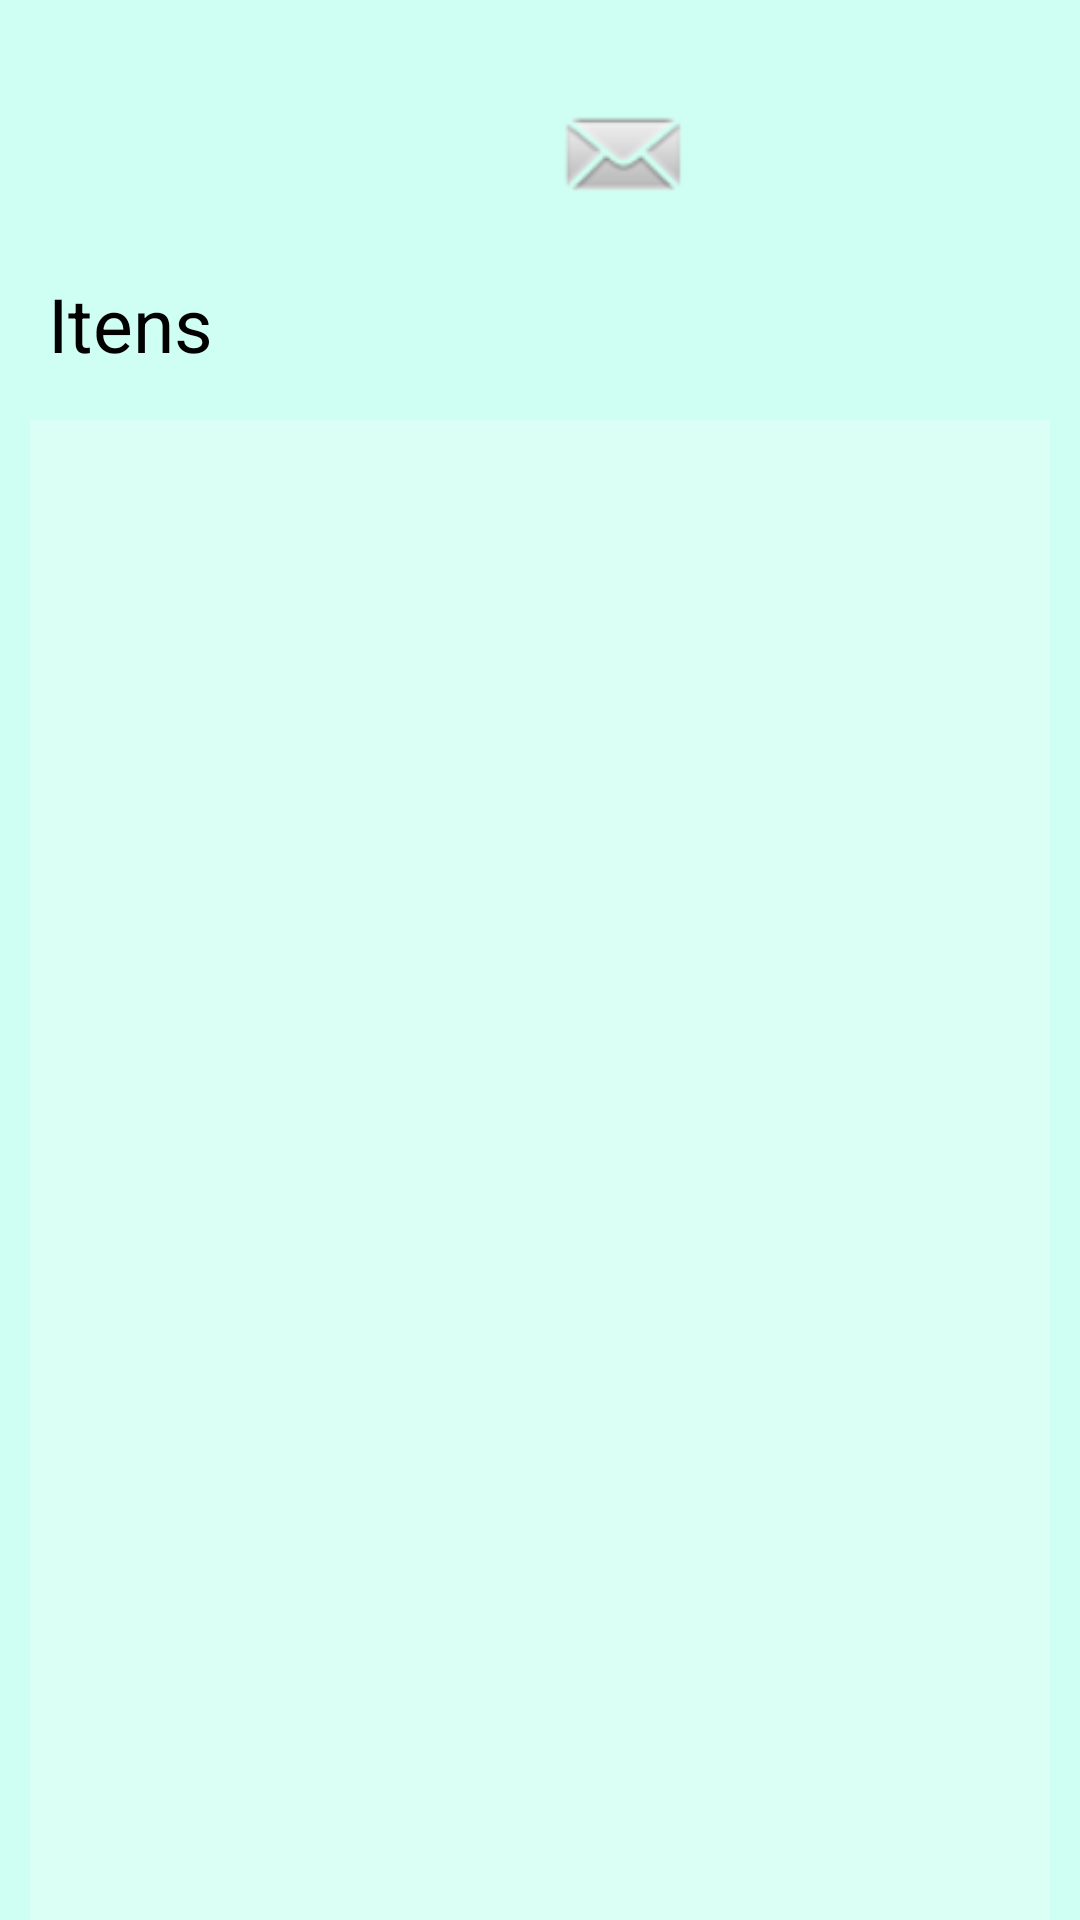

Icons on this 1080 x 1920 Android screen, each with its box as (x1, y1, x2, y2):
sym action email: (566, 118, 680, 190)
